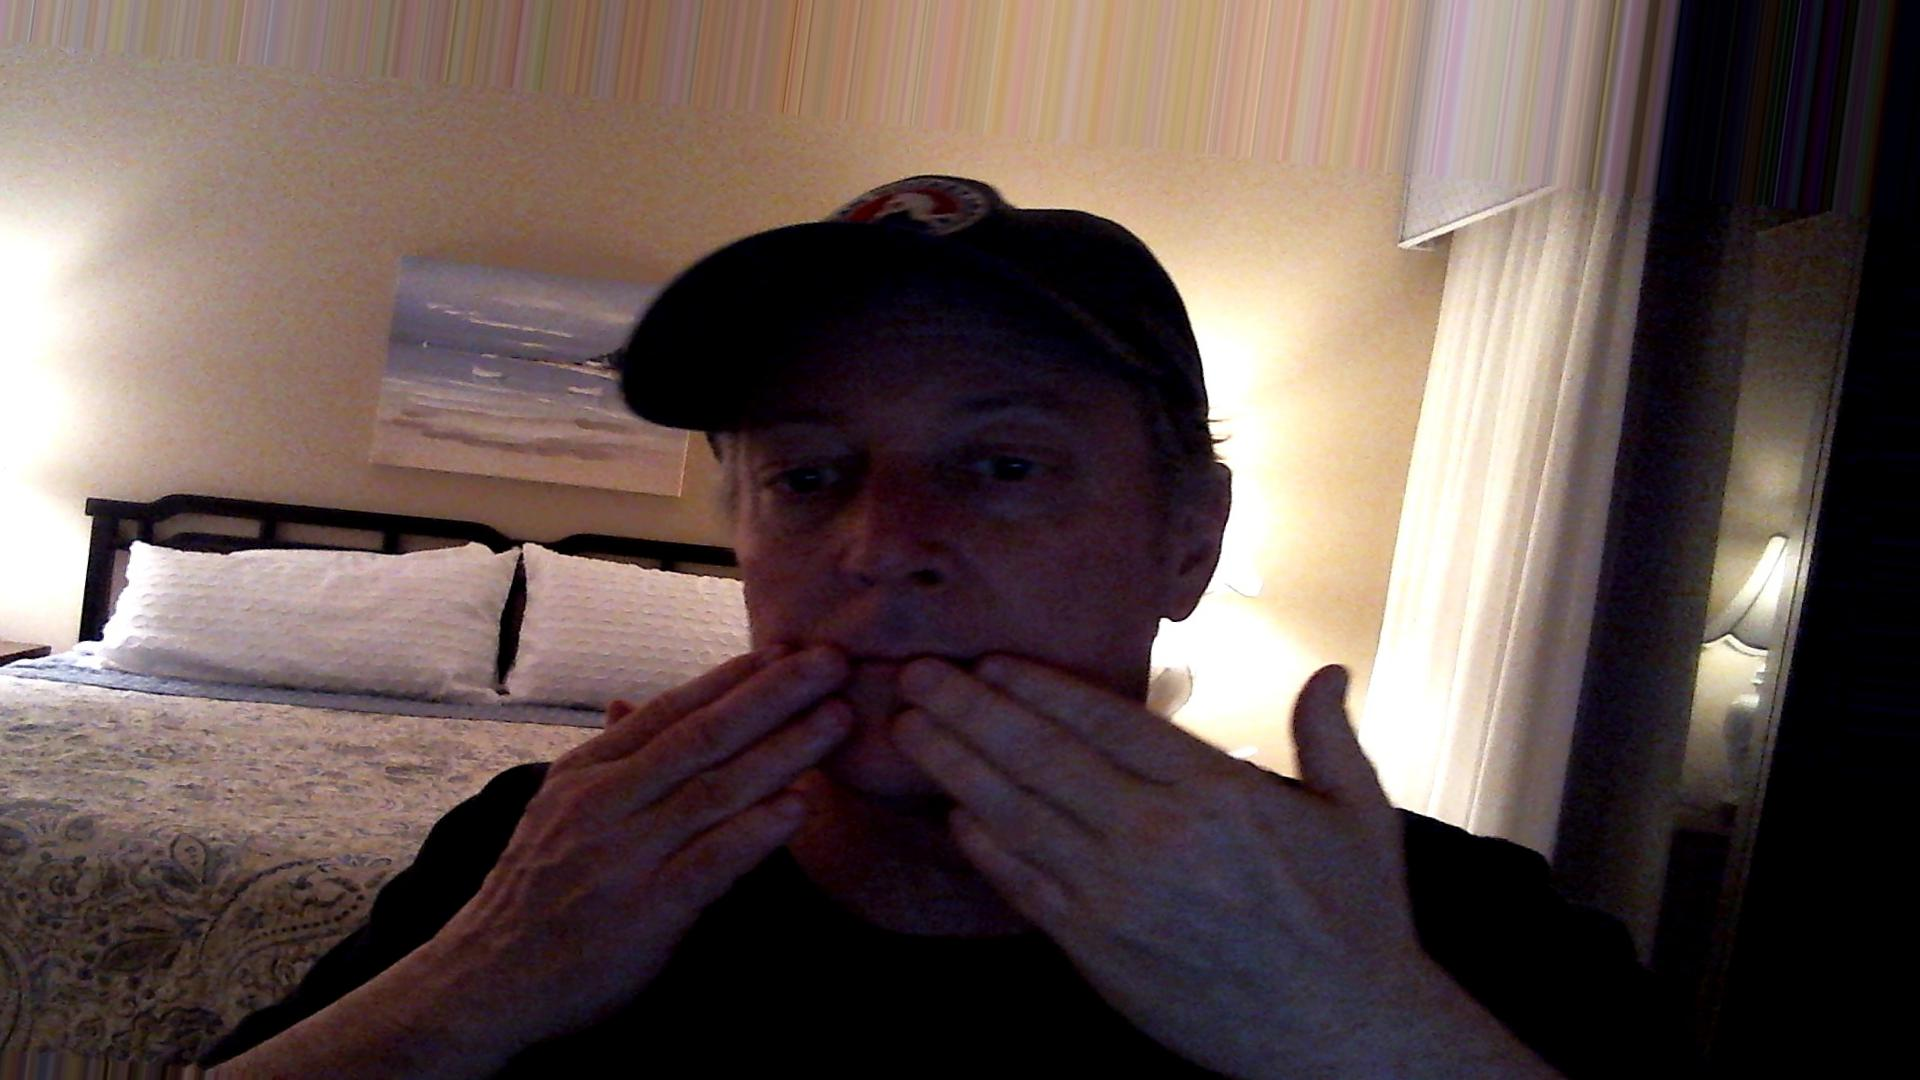Thank You: (493, 640, 1472, 975)
